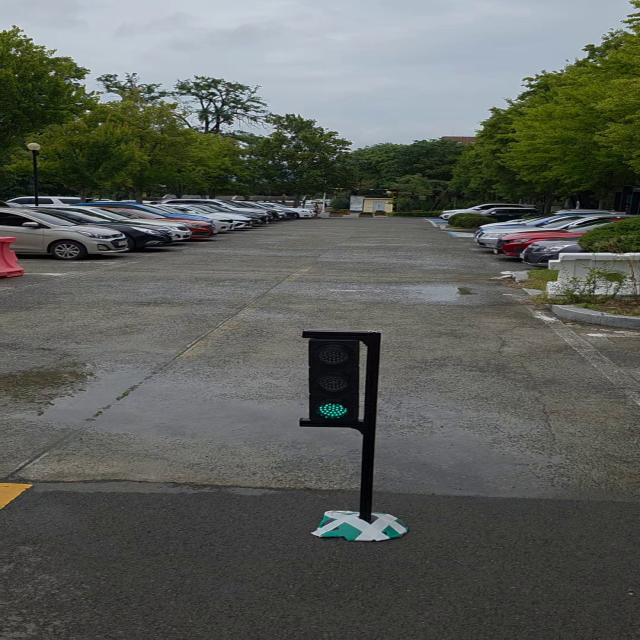green: (310, 334, 360, 425)
